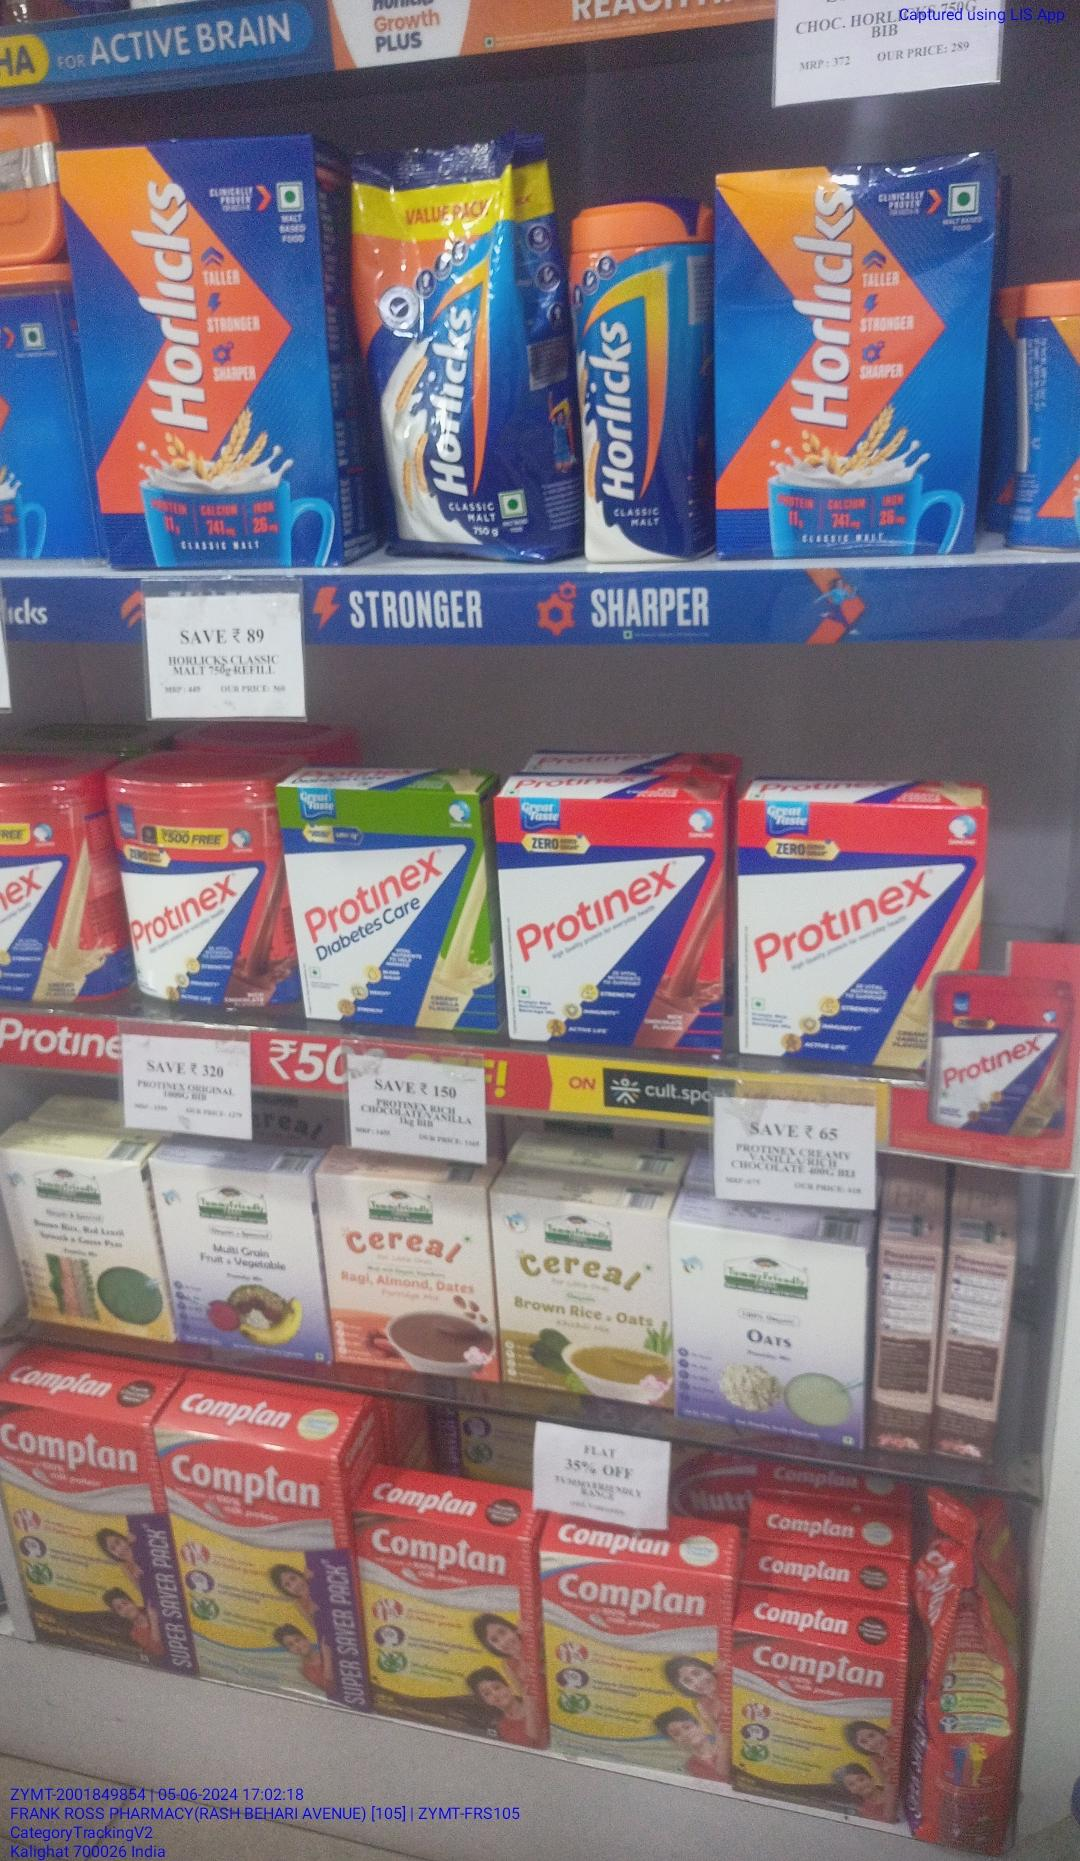COMPLAN_CHOCOLATE_1_KG_PACK: (6, 1409, 184, 1667), (185, 1437, 350, 1698)
COMPLAN_CHOCOLATE_200_GMS_PACK: (363, 1531, 534, 1738), (739, 1625, 903, 1816)
HORLICK_CLASSIC_MALT_500_G_JAR: (577, 200, 689, 562)
HORLICK_CLASSIC_MALT_750_G_POUCH: (355, 148, 553, 565)
PROTINEX_CHOCOLATE_400_G_JAR: (114, 760, 276, 1006)
